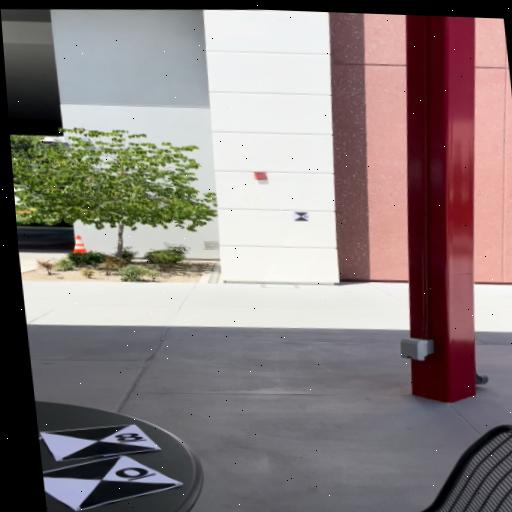target6: (293, 212, 309, 220)
